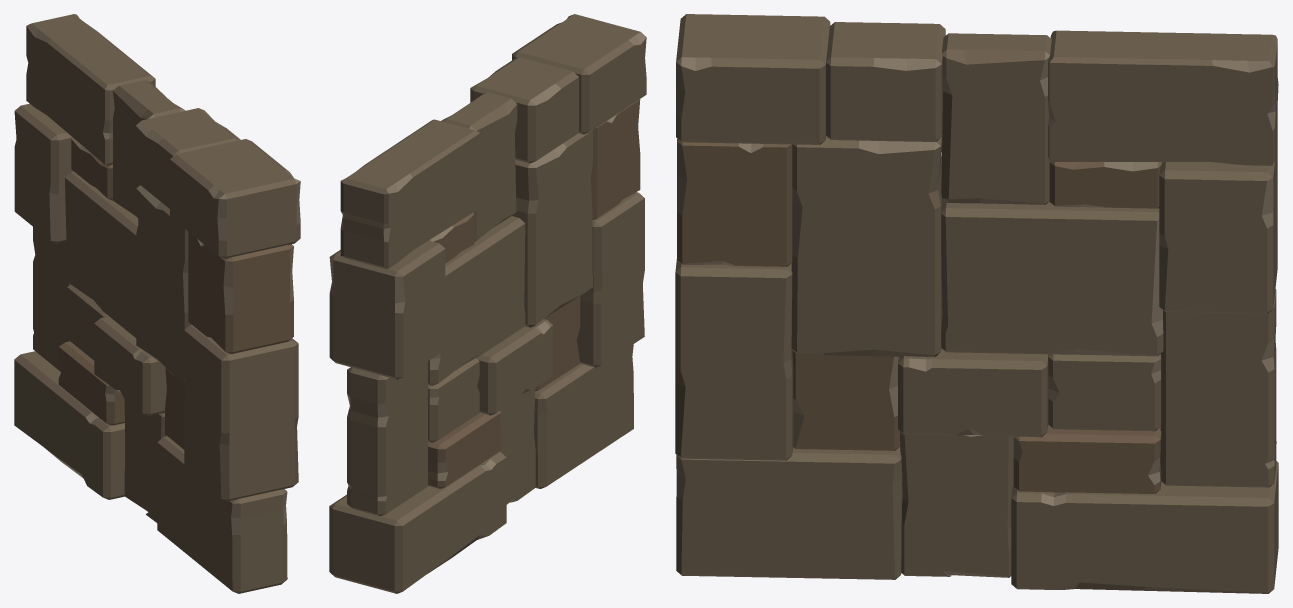
File: plaza_wall_west_7_lev3.glb
The picture shows the model from 3 angles, left to right: view 1: azimuth 30°, elevation 25°; view 2: azimuth 150°, elevation 25°; view 3: azimuth 270°, elevation 25°; orthographic projection. The views are drawn at different scales.
Parts seen in each view (by area): view 1: plaza_wall_west_7_lev3; view 2: plaza_wall_west_7_lev3; view 3: plaza_wall_west_7_lev3.
Boxes of the visible parts, left/top/right/bottom form: plaza_wall_west_7_lev3: left=14, top=14, right=300, bottom=593; plaza_wall_west_7_lev3: left=329, top=14, right=646, bottom=593; plaza_wall_west_7_lev3: left=675, top=14, right=1278, bottom=593.
Size of the model in its own units: 1.46 by 5.92 by 6.14.
